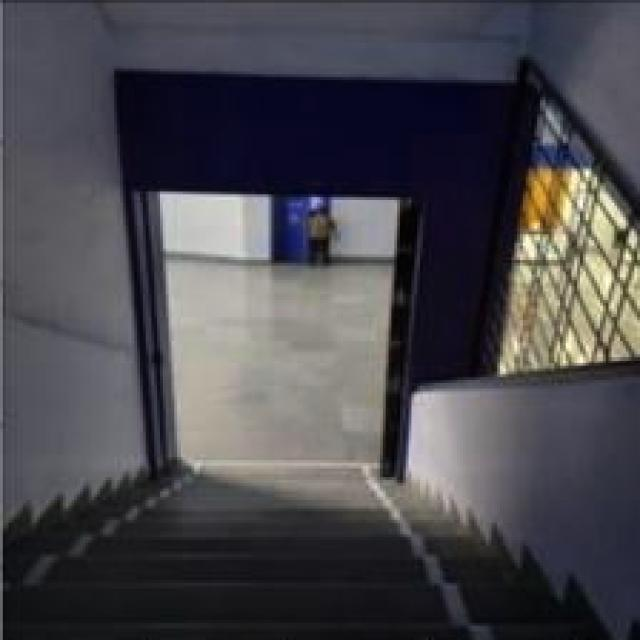downstair: (110, 461, 430, 627)
